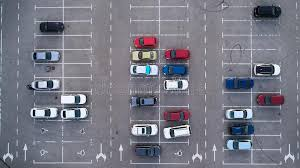Car: (252, 4, 283, 21), (128, 122, 159, 137), (161, 125, 192, 140), (132, 142, 161, 158), (226, 121, 255, 137), (254, 93, 286, 107), (30, 77, 60, 91), (252, 63, 282, 77), (224, 76, 254, 90), (224, 137, 253, 151), (31, 50, 62, 63), (128, 64, 159, 77), (38, 20, 66, 34), (29, 107, 59, 120), (133, 35, 159, 50), (129, 95, 159, 108), (223, 106, 253, 119), (163, 78, 190, 91), (129, 51, 158, 63), (162, 109, 191, 121), (164, 48, 190, 61), (60, 108, 88, 120), (161, 63, 188, 75), (58, 93, 87, 104)
